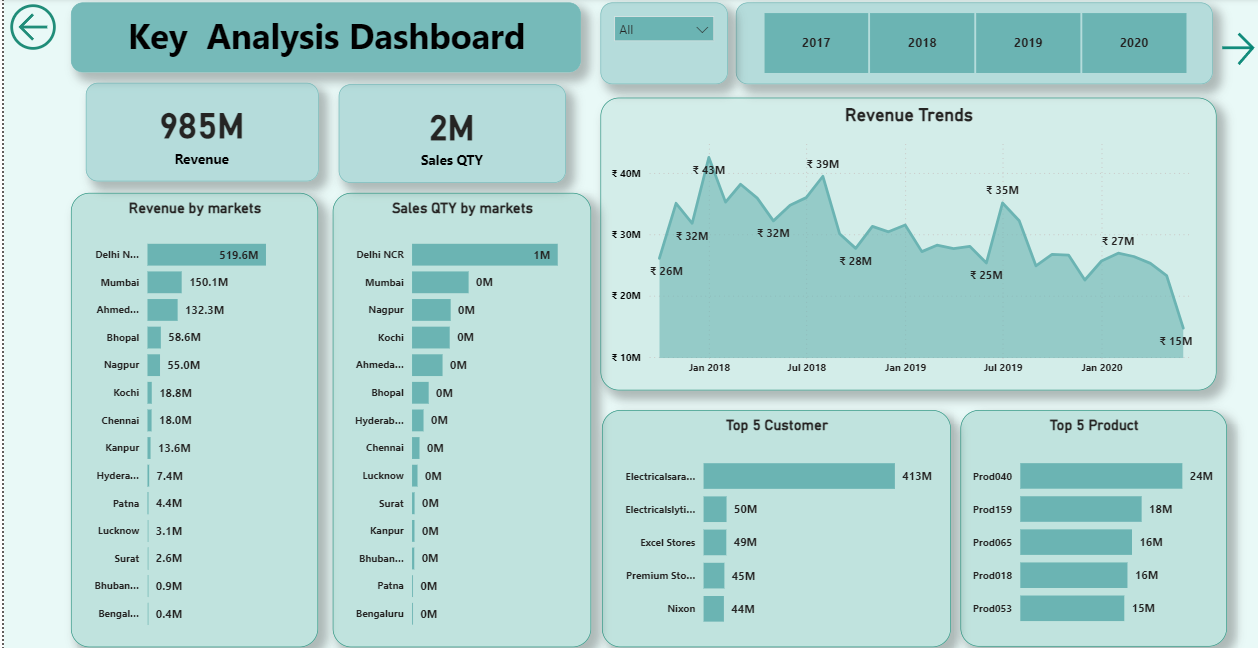

The page's visual inventory and layout, read from the dashboard file:
{"tool":"powerbi","page":{"name":"Key insight","canvas":[1352,720],"ordinal":1},"visuals":[{"type":"slicer","fields":{"Values":["sales date.year"]},"box":[788.9,4.6,513.8,88.2],"z":0},{"type":"card","title":"Revenue","fields":{"Values":["Basemeasure.Revenue"]},"box":[88.1,91.2,250.8,106.4],"z":0,"group":"g1"},{"type":"slicer","fields":{"Values":["sales date.cy_date"]},"box":[643,4.6,136.8,88.2],"z":1000},{"type":"card","title":"Sales Qty","fields":{"Values":["Basemeasure.Sales QTY"]},"box":[360.2,92.7,244.7,106.4],"z":1000,"group":"g1"},{"type":"actionButton","box":[0,0,76.9,62.5],"z":2000},{"type":"clusteredBarChart","title":"Revenue by markets","fields":{"Y":["Basemeasure.Revenue"],"Category":["sales markets.markets_name"]},"box":[71.4,209.8,266,489.5],"z":2000,"group":"g1"},{"type":"textbox","box":[72.1,4.8,549.5,75.3],"z":3000},{"type":"clusteredBarChart","title":"Sales QTY by markets","fields":{"Y":["Basemeasure.Sales QTY"],"Category":["sales markets.markets_name"]},"box":[354.1,209.8,278.2,489.5],"z":3000,"group":"g1"},{"type":"actionButton","box":[1305.8,27.4,45.6,54.7],"z":4000},{"type":"group","id":"g1","title":"Group 1","box":[71.4,91.2,1245.5,608],"z":5000},{"type":"clusteredBarChart","title":"Top 5 Customer","fields":{"Y":["Basemeasure.Revenue"],"Category":["sales customers.custmer_name"]},"box":[643,443.9,375.5,255.4],"z":6000,"group":"g1"},{"type":"clusteredBarChart","title":"Top 5 Product","fields":{"Y":["Basemeasure.Revenue"],"Category":["sales products.product_code"]},"box":[1030.1,443.8,286.8,254.7],"z":7000,"group":"g1"},{"type":"lineChart","title":"Revenue Trends","fields":{"Y":["Basemeasure.Revenue"],"Category":["sales date.cy_date"]},"box":[642.4,107.3,663.3,315.6],"z":8000,"group":"g1"}]}

Visuals, with their boxes on the page's 1352x720 design canvas (x1, y1, x2, y2). These are canvas units, not pixel positions in the 1258x648 screenshot, which may show the page scaled, cropped or inside an application window:
slicer - sales date.year: (789,5,1303,93)
"Revenue" card: (88,91,339,198)
slicer - sales date.cy_date: (643,5,780,93)
"Sales Qty" card: (360,93,605,199)
actionButton: (0,0,77,62)
"Revenue by markets" clusteredBarChart: (71,210,337,699)
textbox: (72,5,622,80)
"Sales QTY by markets" clusteredBarChart: (354,210,632,699)
actionButton: (1306,27,1351,82)
"Group 1" group: (71,91,1317,699)
"Top 5 Customer" clusteredBarChart: (643,444,1018,699)
"Top 5 Product" clusteredBarChart: (1030,444,1317,698)
"Revenue Trends" lineChart: (642,107,1306,423)
